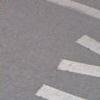Crosswalk: (61, 19, 100, 100)
